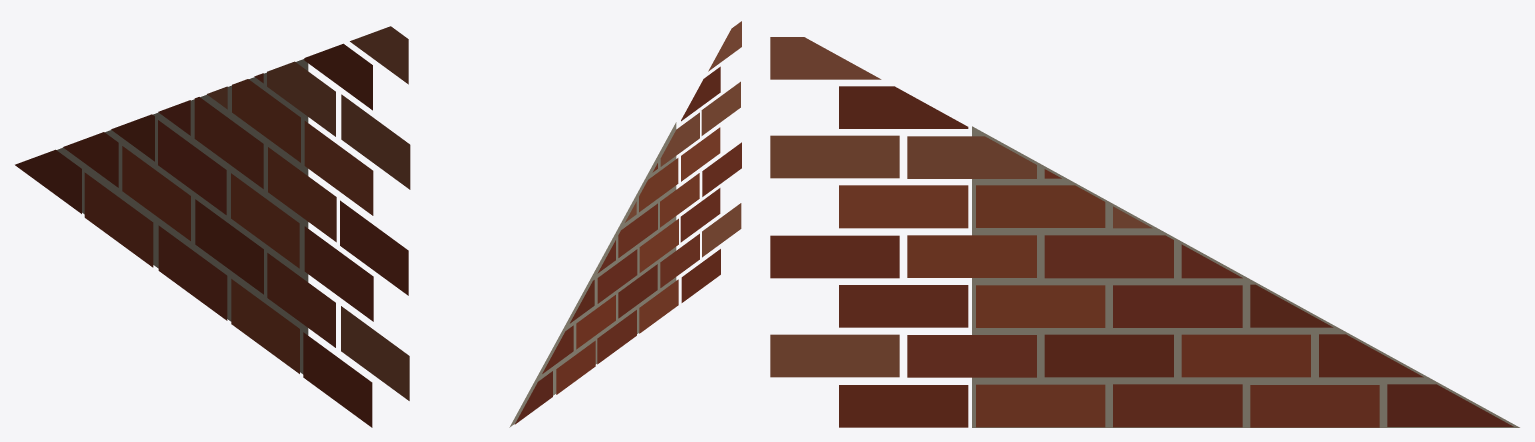
The model's file is wall-brick-gable-l.glb.
3 renders of one model, left to right at view 1: azimuth 30°, elevation 25°; view 2: azimuth 150°, elevation 25°; view 3: azimuth 270°, elevation 25°, orthographic. The views are drawn at different scales.
Parts seen in each view (by area): view 1: wall-brick-gable-l; view 2: wall-brick-gable-l; view 3: wall-brick-gable-l.
Boxes of the visible parts, bbox=[...] form: wall-brick-gable-l: bbox=[15, 26, 410, 427]; wall-brick-gable-l: bbox=[509, 21, 741, 427]; wall-brick-gable-l: bbox=[770, 37, 1519, 427].
Size of the model in its own units: 0.0996 by 0.793 by 1.37.
